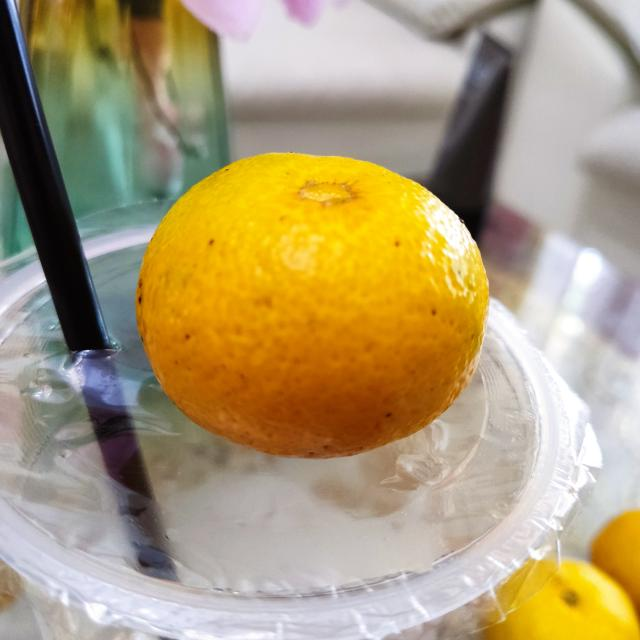orange: (130, 151, 496, 460)
